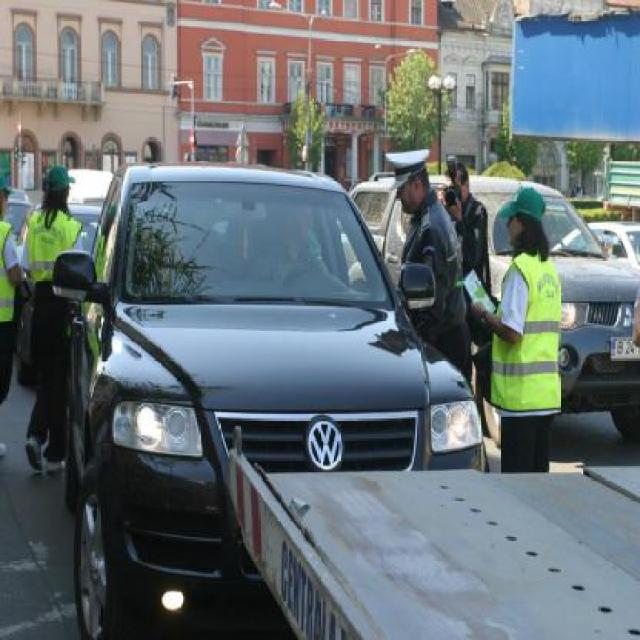License-Plates: (609, 335, 640, 359)
